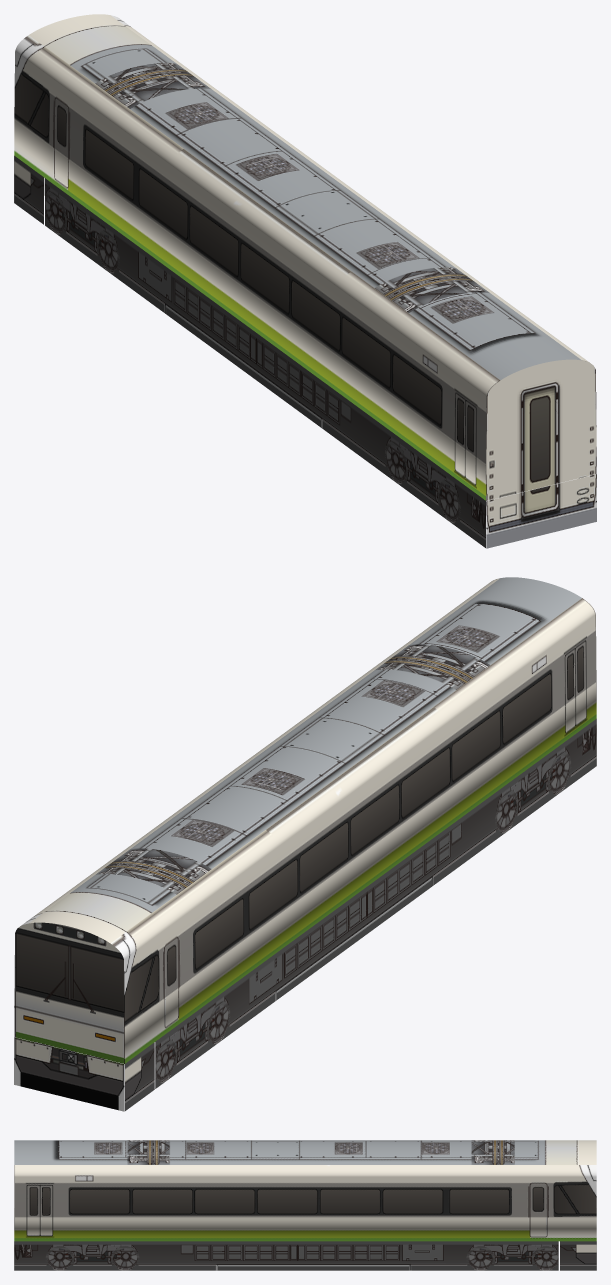
The model's file is car4.glb.
The picture shows the model from 3 angles, top to bottom: view 1: azimuth 30°, elevation 25°; view 2: azimuth 150°, elevation 25°; view 3: azimuth 270°, elevation 25°; orthographic projection. The views are drawn at different scales.
Visible parts, largest first — view 1: kintetsu-26000-car4; view 2: kintetsu-26000-car4; view 3: kintetsu-26000-car4.
Boxes of the visible parts, x1,y1,x2,y2 form: kintetsu-26000-car4: [14, 14, 596, 548]; kintetsu-26000-car4: [14, 577, 596, 1111]; kintetsu-26000-car4: [14, 1140, 596, 1270].
Bounding box in the file's own units: 2.8 × 4.15 × 20.73.
9 materials, 8 textured.
